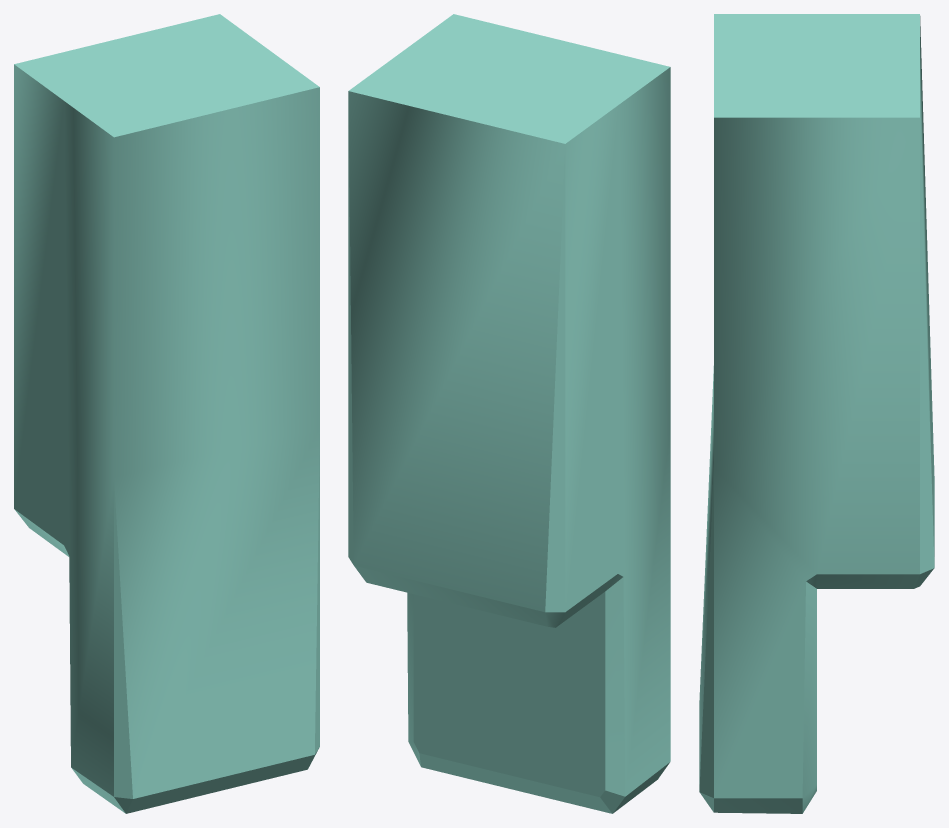
Rendered from SingleBrickWithOtherHalfMissing_alpha.FBX.
3 views of the same model, side by side, from view 1: azimuth 30°, elevation 25°; view 2: azimuth 150°, elevation 25°; view 3: azimuth 270°, elevation 25° (orthographic). The views are drawn at different scales.
Visible parts, largest first — view 1: Box001; view 2: Box001; view 3: Box001.
Part boxes in pixels (<box>): Box001: <box>14,14,319,813</box>; Box001: <box>348,14,670,813</box>; Box001: <box>699,14,934,813</box>.
Size of the model in its own units: 39.4 by 124 by 37.74.
